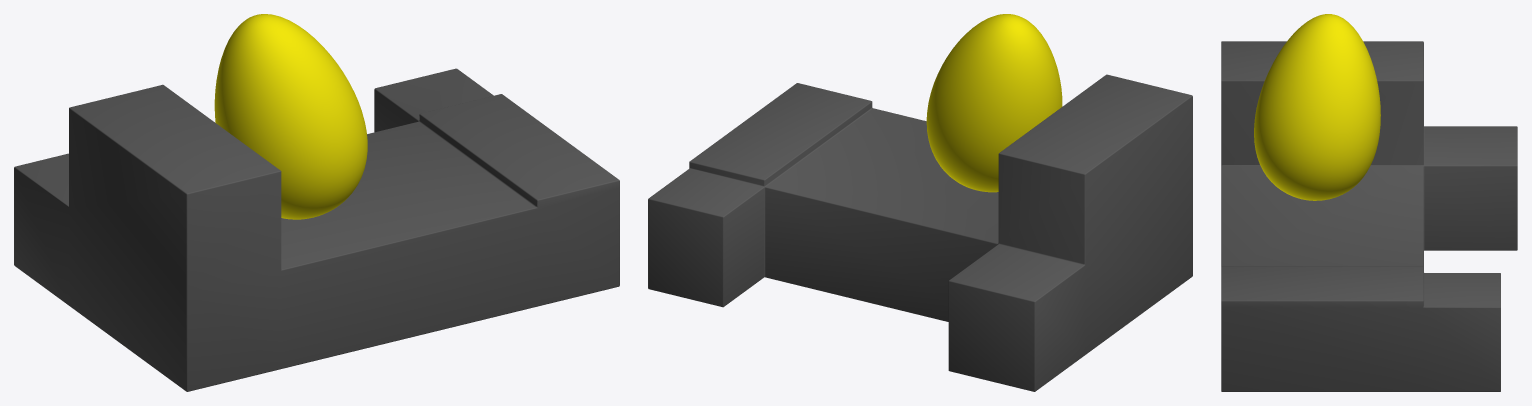
3 renders of one model, left to right at view 1: azimuth 30°, elevation 25°; view 2: azimuth 150°, elevation 25°; view 3: azimuth 270°, elevation 25°, orthographic. The views are drawn at different scales.
Visible parts, largest first — view 1: Cube, Sphere; view 2: Cube, Sphere; view 3: Cube, Sphere.
Part boxes in pixels (<box>): Cube: <box>14,68,619,391</box>; Sphere: <box>214,14,367,219</box>; Cube: <box>648,74,1192,391</box>; Sphere: <box>926,14,1062,192</box>; Cube: <box>1221,41,1517,391</box>; Sphere: <box>1254,14,1380,200</box>.
Size of the model in its own units: 4.49 by 2.92 by 3.1.
